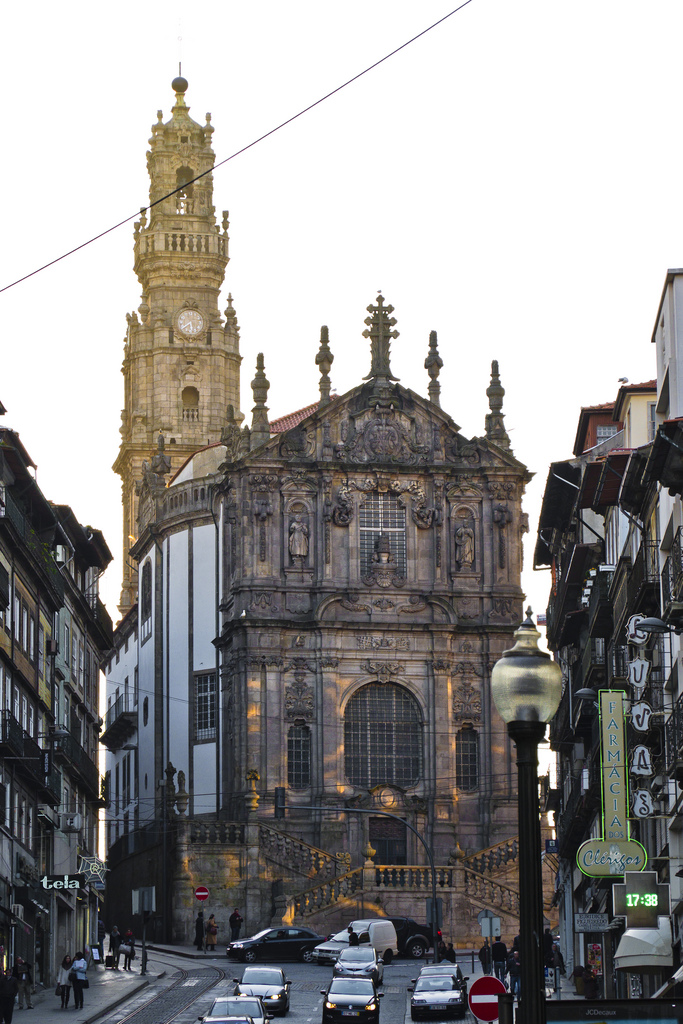clerigos: (109, 55, 246, 618)
